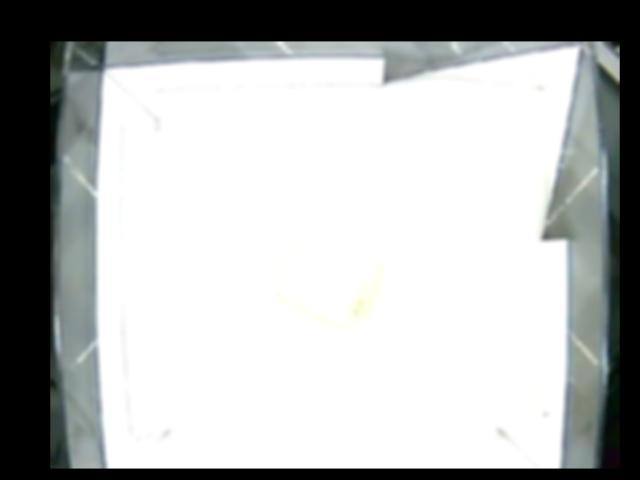Mooli: (269, 225, 383, 328)
